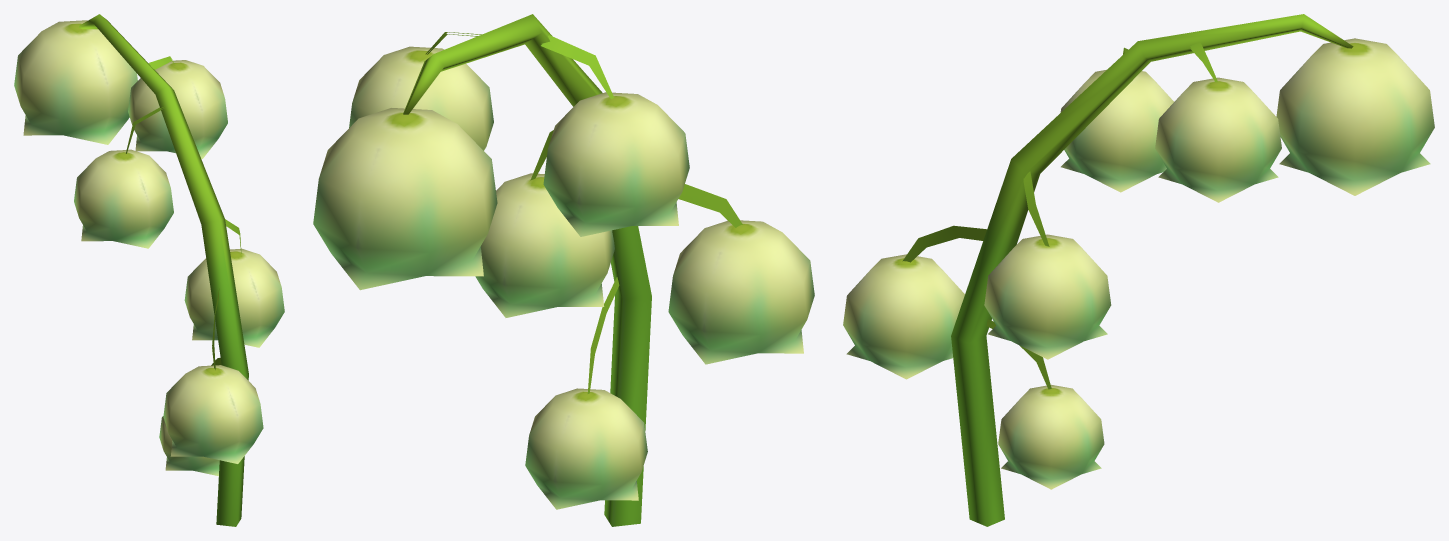
The model's file is scenes_town_plants03.FBX.
3 renders of one model, left to right at view 1: azimuth 30°, elevation 25°; view 2: azimuth 150°, elevation 25°; view 3: azimuth 270°, elevation 25°, orthographic. The views are drawn at different scales.
Parts seen in each view (by area): view 1: scenes_town_plants03; view 2: scenes_town_plants03; view 3: scenes_town_plants03.
Part boxes in pixels (x1,y1,x2,y2): scenes_town_plants03: (14, 14, 284, 526); scenes_town_plants03: (313, 14, 814, 526); scenes_town_plants03: (843, 14, 1434, 526).
Bounding box in the file's own units: 95.38 × 205 × 217.
